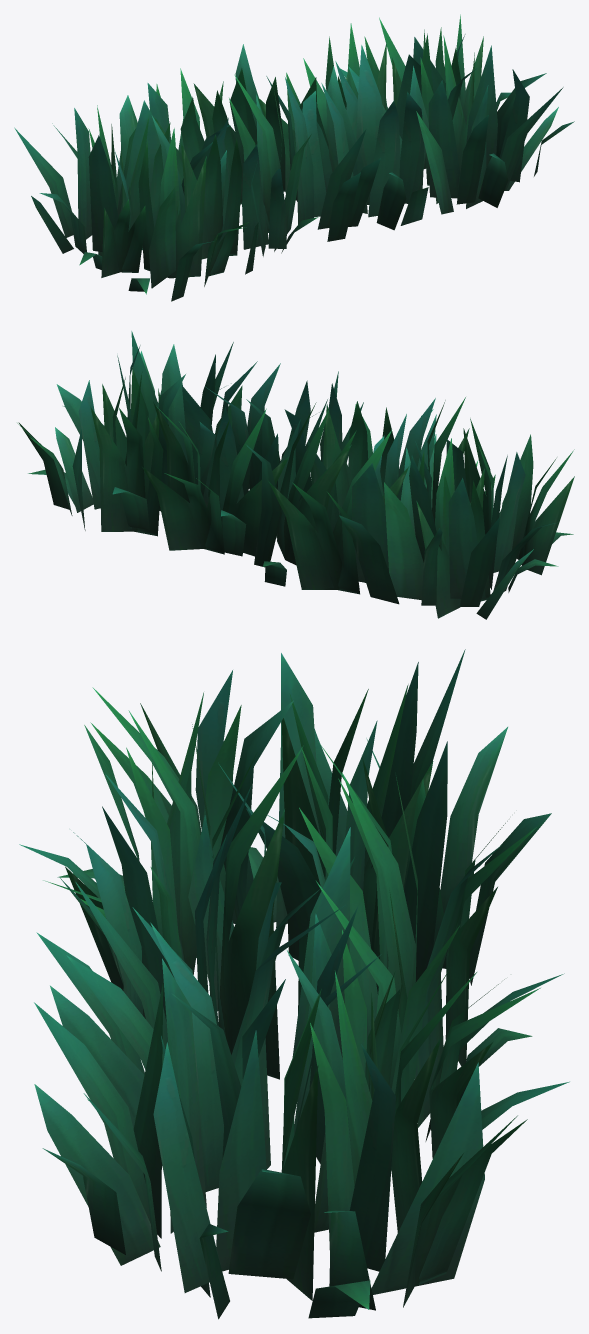
The model's file is pref_sm_beach_techgrass_alpha_03_lv1.fbx.
3 views of the same model, one above another, from view 1: azimuth 30°, elevation 25°; view 2: azimuth 150°, elevation 25°; view 3: azimuth 270°, elevation 25° (orthographic). The views are drawn at different scales.
Parts seen in each view (by area): view 1: pref_sm_beach_techgrass_alpha_03_lv1; view 2: pref_sm_beach_techgrass_alpha_03_lv1; view 3: pref_sm_beach_techgrass_alpha_03_lv1.
Boxes of the visible parts, x1,y1,x2,y2 form: pref_sm_beach_techgrass_alpha_03_lv1: [14, 14, 574, 301]; pref_sm_beach_techgrass_alpha_03_lv1: [17, 331, 574, 619]; pref_sm_beach_techgrass_alpha_03_lv1: [19, 649, 569, 1319].
Size of the model in its own units: 6.22 by 2.03 by 2.97.
